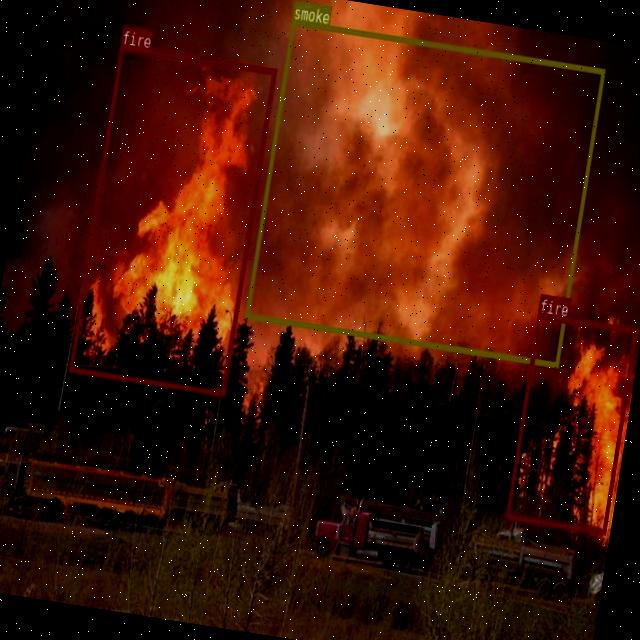fire: (68, 44, 276, 395), (505, 313, 638, 534)
smoke: (244, 19, 605, 367)
